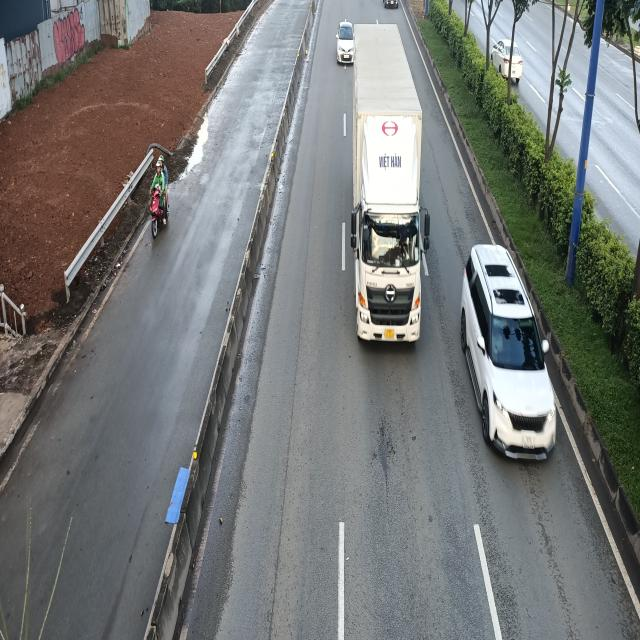car: (459, 238, 560, 456), (337, 20, 357, 64)
truck: (352, 24, 432, 346)
